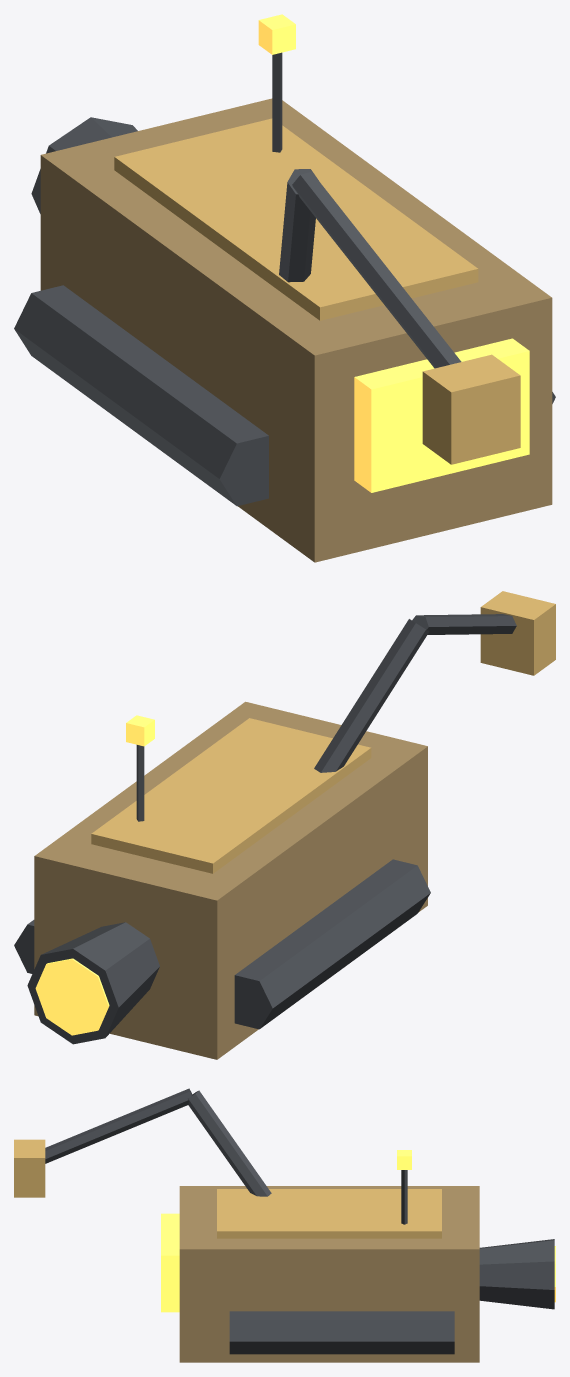
The model's file is foundry_repair.glb.
The picture shows the model from 3 angles, top to bottom: view 1: azimuth 30°, elevation 25°; view 2: azimuth 150°, elevation 25°; view 3: azimuth 270°, elevation 25°; orthographic projection. The views are drawn at different scales.
Parts seen in each view (by area): view 1: repair; view 2: repair; view 3: repair.
Part boxes in pixels (x1,y1,x2,y2): repair: (14, 14, 555, 562); repair: (14, 591, 555, 1059); repair: (14, 1088, 555, 1362).
Bounding box in the file's own units: 3.4 × 3.7 × 8.67.
